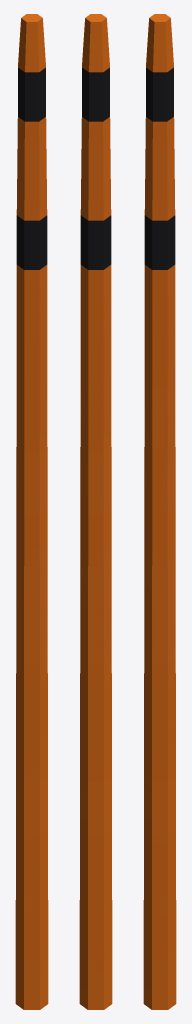
Rendered from estaca_neve.glb.
The picture shows the model from 3 angles, left to right: view 1: azimuth 90°, elevation 25°; view 2: azimuth 150°, elevation 25°; view 3: azimuth 270°, elevation 25°; orthographic projection.
Parts seen in each view (by area): view 1: Inteiro, Peca_01, Peca_00; view 2: Inteiro, Peca_01, Peca_00; view 3: Inteiro, Peca_01, Peca_00.
Boxes of the visible parts, x1,y1,x2,y2 form: Inteiro: [15, 18, 48, 1009]; Peca_01: [16, 14, 47, 549]; Peca_00: [15, 537, 48, 1009]; Inteiro: [79, 18, 112, 1009]; Peca_01: [80, 14, 111, 549]; Peca_00: [79, 538, 112, 1009]; Inteiro: [143, 18, 176, 1009]; Peca_01: [144, 14, 175, 543]; Peca_00: [143, 536, 176, 1009].
Size of the model in its own units: 0.052 by 2 by 0.06.
Materials: 1 (1 with a texture image).
